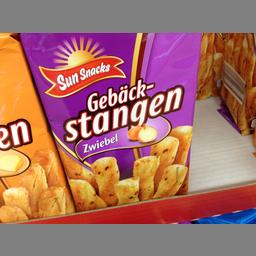chips: (24, 31, 200, 207)
